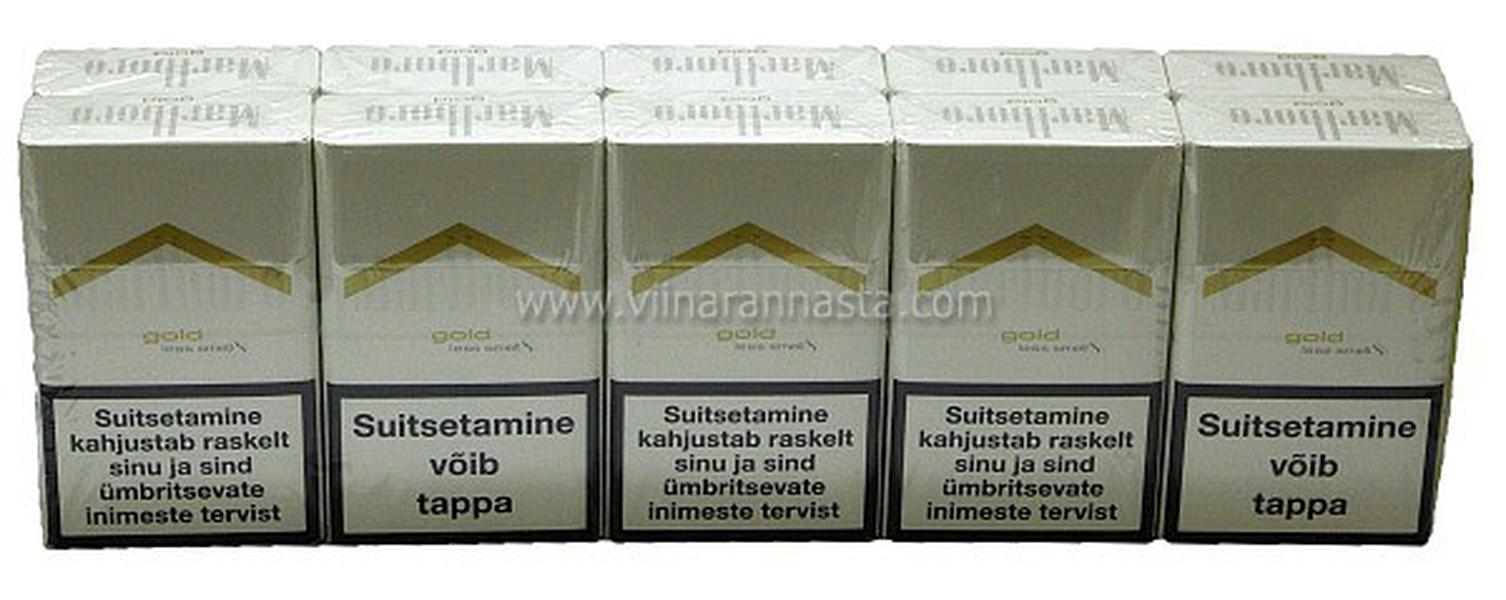marlboro_gold: (315, 148, 597, 544), (40, 144, 319, 544), (1174, 155, 1451, 544), (608, 151, 879, 537), (897, 144, 1162, 537)
